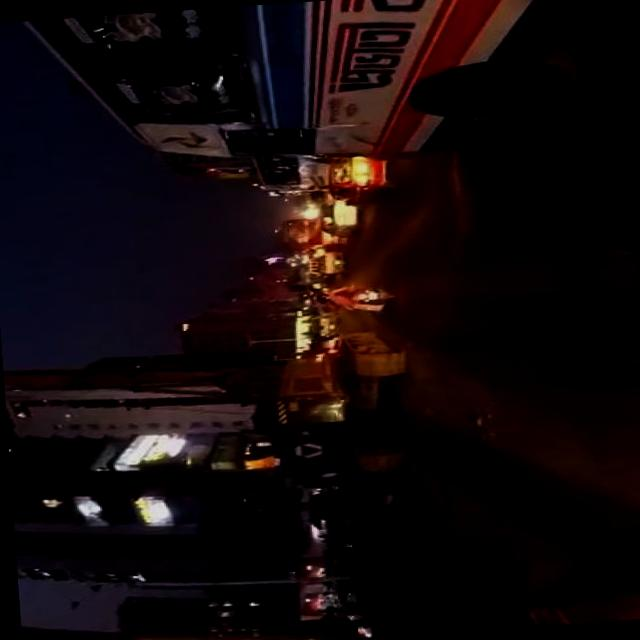bus: (15, 0, 605, 185), (250, 150, 314, 198), (274, 217, 317, 251)
car: (322, 155, 391, 210), (312, 197, 358, 240)
motorcycle: (344, 286, 394, 306)
truck: (301, 250, 344, 277), (306, 314, 336, 339)
